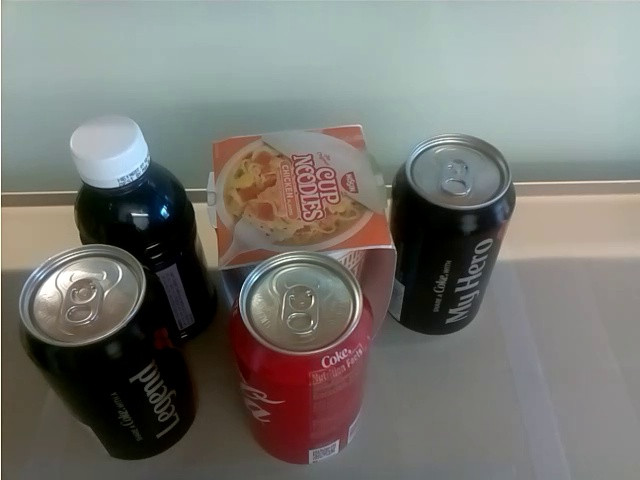cocacola: (226, 246, 375, 468)
cocacola-zero: (16, 239, 199, 463), (392, 132, 517, 335)
juice: (67, 112, 216, 342)
noodles: (200, 121, 394, 332)
